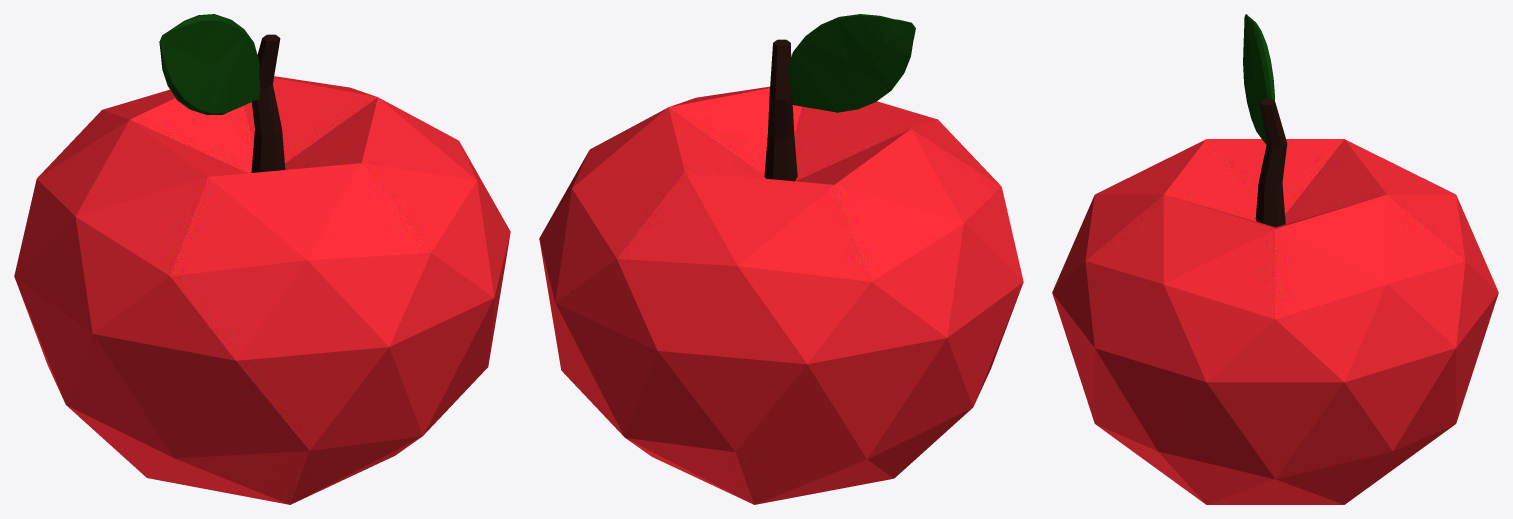
The model's file is apple.dae.
The picture shows the model from 3 angles, left to right: view 1: azimuth 30°, elevation 25°; view 2: azimuth 150°, elevation 25°; view 3: azimuth 270°, elevation 25°; orthographic projection. The views are drawn at different scales.
Parts seen in each view (by area): view 1: Icosphere, Cube, Cylinder; view 2: Icosphere, Cube, Cylinder; view 3: Icosphere, Cylinder, Cube.
Boxes of the visible parts, <box> form: Icosphere: <box>14,76,510,504</box>; Cube: <box>159,14,260,114</box>; Cylinder: <box>251,34,285,172</box>; Icosphere: <box>539,86,1023,504</box>; Cube: <box>787,14,915,112</box>; Cylinder: <box>764,39,797,181</box>; Icosphere: <box>1052,139,1498,504</box>; Cylinder: <box>1255,99,1287,227</box>; Cube: <box>1243,14,1274,144</box>.
Bounding box in the file's own units: 1.9 × 2 × 2.
Materials: 3 (1 with a texture image).
